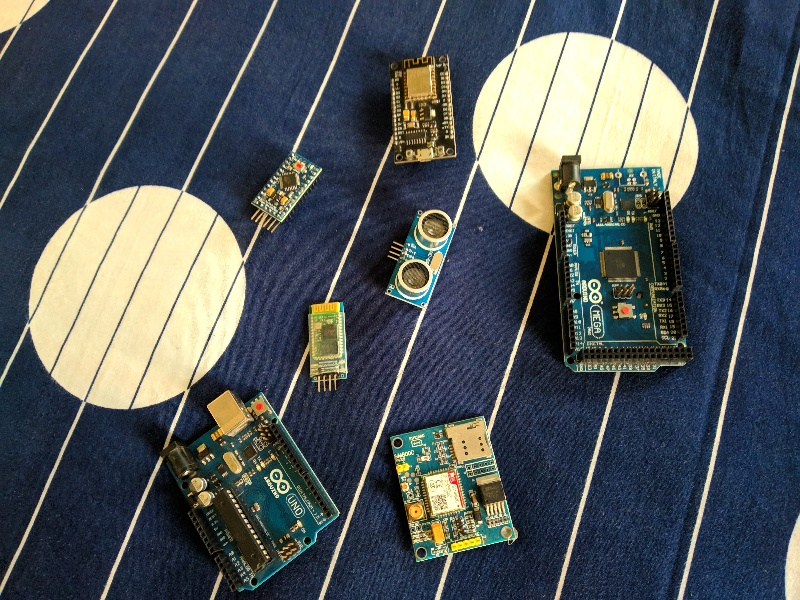Arduino Mega 2560: (546, 151, 700, 379)
Arduino Pro Mini: (246, 148, 325, 224)
Arduino UNO: (155, 387, 346, 594)
HC-05: (304, 298, 351, 384)
NodeMCU: (381, 51, 461, 169)
SIM800: (386, 413, 521, 563)
Sonar Sensor: (377, 204, 459, 311)
